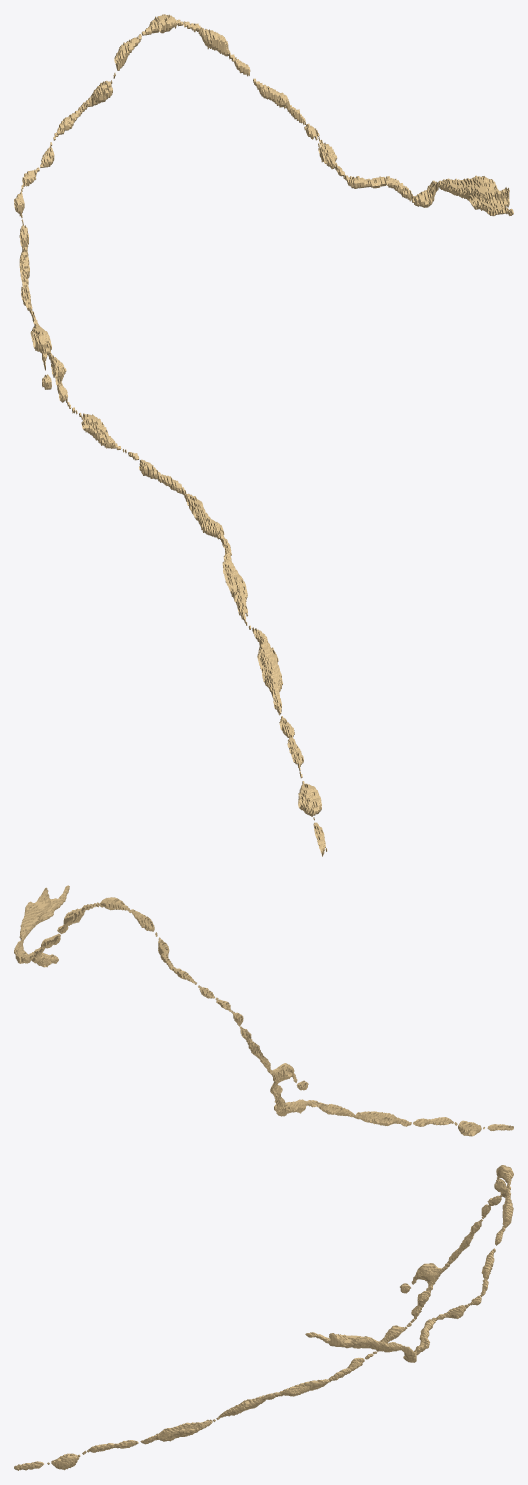
File: SVV_AVDR.gltf
3 views of the same model, one above another, from view 1: azimuth 30°, elevation 25°; view 2: azimuth 150°, elevation 25°; view 3: azimuth 270°, elevation 25° (orthographic). The views are drawn at different scales.
Visible parts, largest first — view 1: AVDR; view 2: AVDR; view 3: AVDR.
Boxes of the visible parts, x1=… form: AVDR: x1=14, y1=14, x2=513, y2=856; AVDR: x1=14, y1=885, x2=513, y2=1136; AVDR: x1=14, y1=1165, x2=513, y2=1470.
Bounding box in the file's own units: 139323 × 168222 × 207565.
